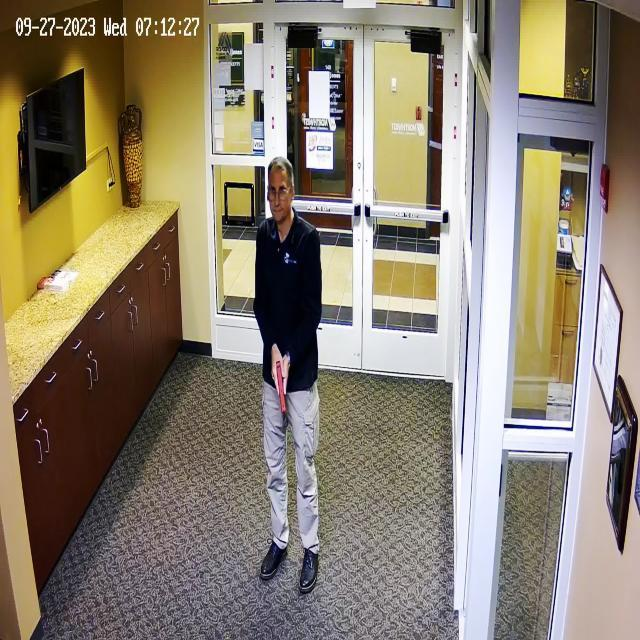Gun: (257, 345, 301, 419)
